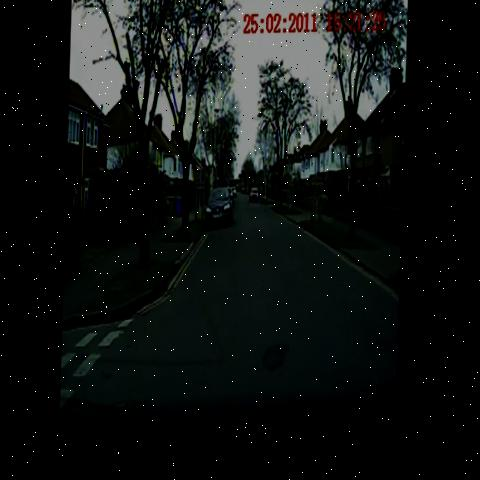pothole: (260, 342, 295, 382)
